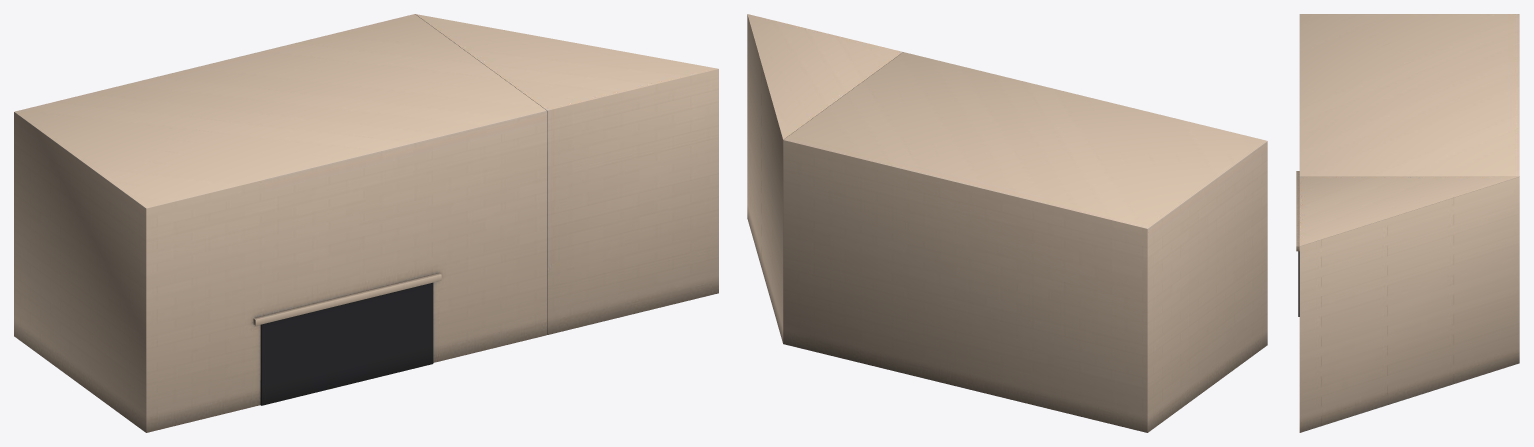
Rendered from galeria_este.glb.
3 renders of one model, left to right at view 1: azimuth 30°, elevation 25°; view 2: azimuth 150°, elevation 25°; view 3: azimuth 270°, elevation 25°, orthographic. The views are drawn at different scales.
Visible parts, largest first — view 1: galeria_este; view 2: galeria_este; view 3: galeria_este.
Part boxes in pixels (left/top/right/bottom): galeria_este: left=14, top=14, right=718, bottom=432; galeria_este: left=747, top=14, right=1267, bottom=432; galeria_este: left=1296, top=14, right=1519, bottom=432.
Size of the model in its own units: 39.99 by 15 by 16.25.
1 material, 1 textured.
